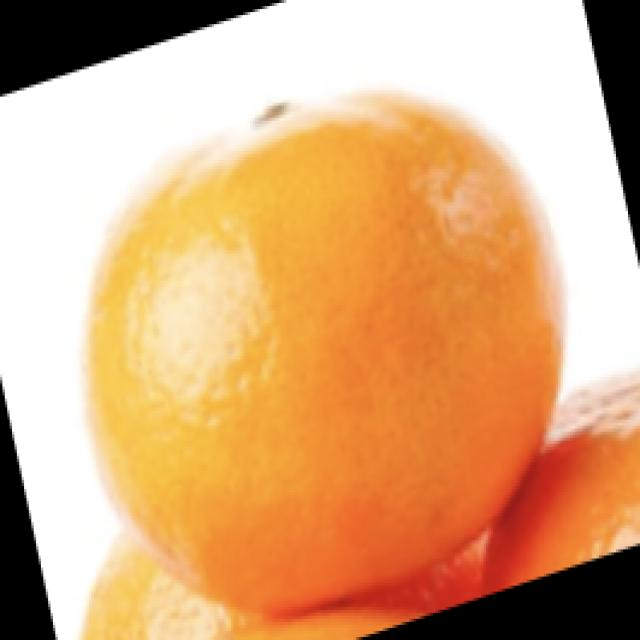fresh: (70, 75, 640, 628)
